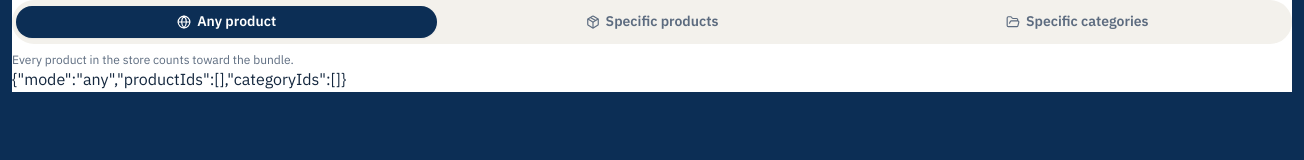
Test: trigger label › shows the products placeholder on the product tab
Press the mouse on the tab "Specific products" at {"x": 652, "y": 22}, box [441,6,863,38]
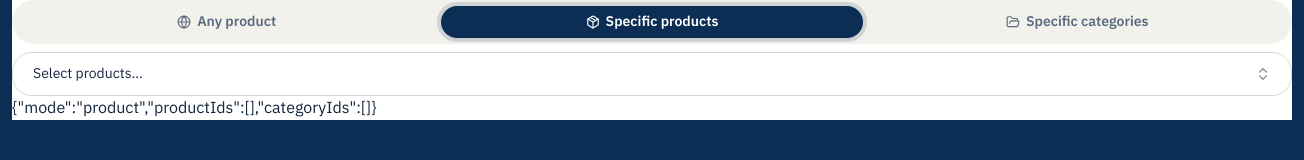
Expected: the dropdown reads "Select products…", [12,52,1292,96]
